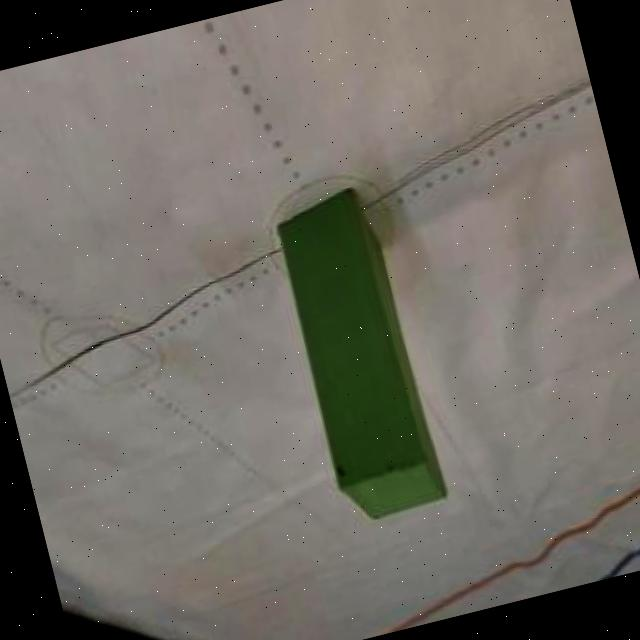greenbox: (265, 182, 454, 528)
